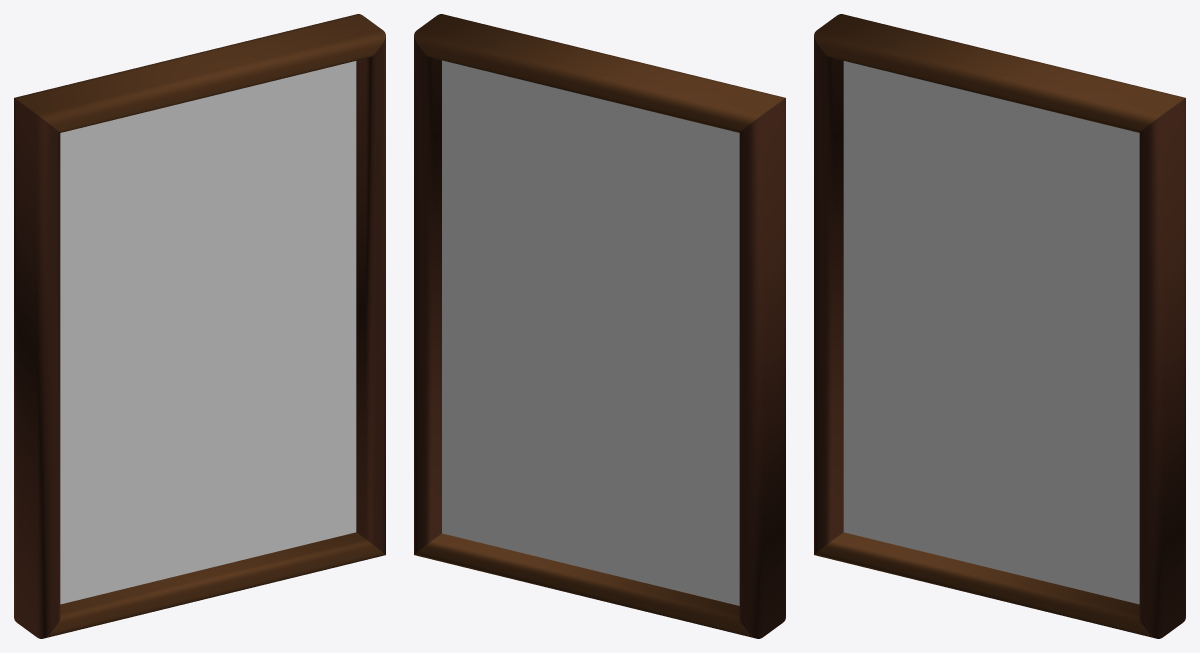
File: FractureWindow.fbx
The picture shows the model from 3 angles, left to right: view 1: azimuth 30°, elevation 25°; view 2: azimuth 150°, elevation 25°; view 3: azimuth 330°, elevation 25°; orthographic projection.
Visible parts, largest first — view 1: Window, Box001_Part_21, Box001_Part_8, Box001_Part_1, Box001_Part_25, Box001_Part_22, Box001_Part_12, Box001_Part_29, Box001_Part_16, Box001_Part_23, Box001_Part_30, Box001_Part_11 (+18 smaller); view 2: Window, Box001_Part_21, Box001_Part_8, Box001_Part_1, Box001_Part_22, Box001_Part_25, Box001_Part_12, Box001_Part_29, Box001_Part_16, Box001_Part_23, Box001_Part_30, Box001_Part_27 (+19 smaller); view 3: Window, Box001_Part_21, Box001_Part_8, Box001_Part_1, Box001_Part_25, Box001_Part_22, Box001_Part_12, Box001_Part_29, Box001_Part_16, Box001_Part_23, Box001_Part_24, Box001_Part_11 (+17 smaller).
Part boxes in pixels (bbox=[...]): Window: bbox=[14, 14, 385, 638]; Box001_Part_21: bbox=[181, 441, 312, 572]; Box001_Part_8: bbox=[60, 472, 191, 598]; Box001_Part_1: bbox=[60, 404, 193, 518]; Box001_Part_25: bbox=[193, 124, 319, 248]; Box001_Part_22: bbox=[153, 229, 248, 401]; Box001_Part_12: bbox=[152, 87, 249, 200]; Box001_Part_29: bbox=[73, 183, 200, 285]; Box001_Part_16: bbox=[185, 276, 277, 449]; Box001_Part_23: bbox=[243, 359, 356, 454]; Box001_Part_30: bbox=[296, 412, 356, 542]; Box001_Part_11: bbox=[60, 110, 153, 186]; Window: bbox=[414, 14, 785, 638]; Box001_Part_21: bbox=[485, 441, 617, 573]; Box001_Part_8: bbox=[607, 473, 739, 599]; Box001_Part_1: bbox=[605, 407, 739, 520]; Box001_Part_22: bbox=[549, 231, 645, 403]; Box001_Part_25: bbox=[478, 125, 604, 250]; Box001_Part_12: bbox=[547, 86, 646, 201]; Box001_Part_29: bbox=[597, 184, 725, 288]; Box001_Part_16: bbox=[522, 279, 612, 450]; Box001_Part_23: bbox=[442, 362, 553, 455]; Box001_Part_30: bbox=[442, 413, 500, 543]; Box001_Part_27: bbox=[462, 245, 553, 326]; Window: bbox=[814, 14, 1185, 638]; Box001_Part_21: bbox=[976, 446, 1106, 596]; Box001_Part_8: bbox=[850, 449, 986, 566]; Box001_Part_1: bbox=[843, 347, 988, 461]; Box001_Part_25: bbox=[988, 148, 1114, 267]; Box001_Part_22: bbox=[948, 228, 1043, 393]; Box001_Part_12: bbox=[947, 86, 1044, 195]; Box001_Part_29: bbox=[867, 155, 995, 236]; Box001_Part_16: bbox=[980, 299, 1072, 447]; Box001_Part_23: bbox=[1038, 408, 1139, 500]; Box001_Part_24: bbox=[843, 96, 932, 203]; Box001_Part_11: bbox=[843, 70, 947, 158].
Size of the model in its own units: 90 by 130 by 15.
